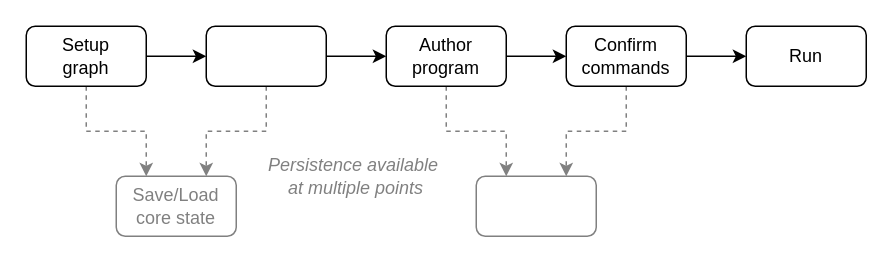
Some shapes in this 893 by 263 pixel diagram are drawn without their labels. Each missing label, with the centre of its shape:
"Activate modules" belongs at (265,55).
"Save/Load program" belongs at (535,205).
